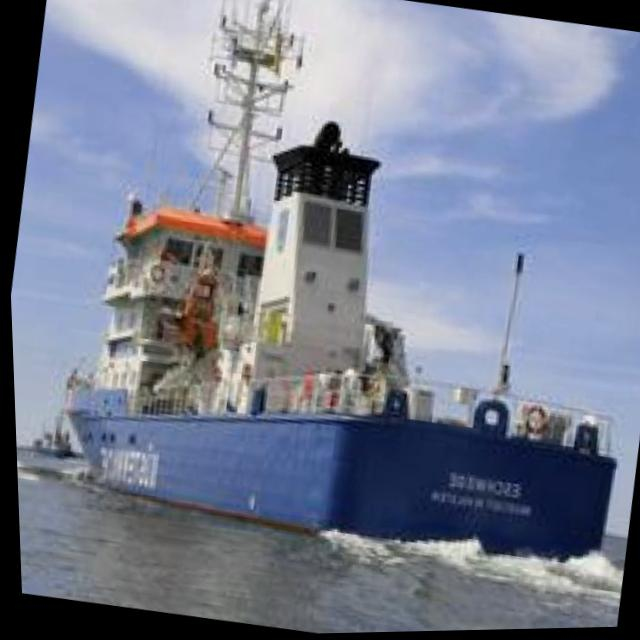ship2: (61, 0, 614, 566)
